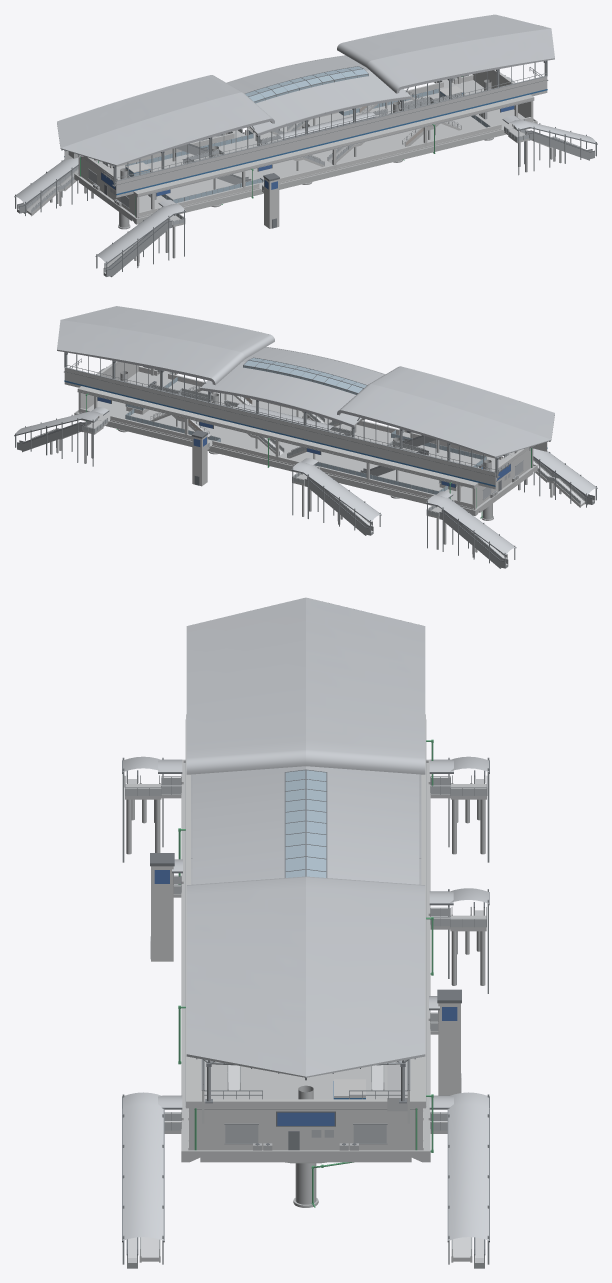
3 views of the same model, one above another, from view 1: azimuth 30°, elevation 25°; view 2: azimuth 150°, elevation 25°; view 3: azimuth 270°, elevation 25° (orthographic). The views are drawn at different scales.
Visible parts, largest first — view 1: BL08, BL08_conc, BL08_access; view 2: BL08, BL08_conc, BL08_access; view 3: BL08, BL08_access, BL08_conc.
Part boxes in pixels (box(x1,y1,x2,y2)): BL08: box(57, 14, 554, 197); BL08_conc: box(74, 69, 537, 229); BL08_access: box(14, 75, 597, 277); BL08: box(57, 306, 554, 489); BL08_conc: box(74, 361, 537, 520); BL08_access: box(14, 366, 597, 568); BL08: box(186, 597, 425, 1123); BL08_access: box(122, 739, 489, 1268); BL08_conc: box(181, 714, 430, 1207).
Bounding box in the file's own units: 131 × 28 × 42.5.
